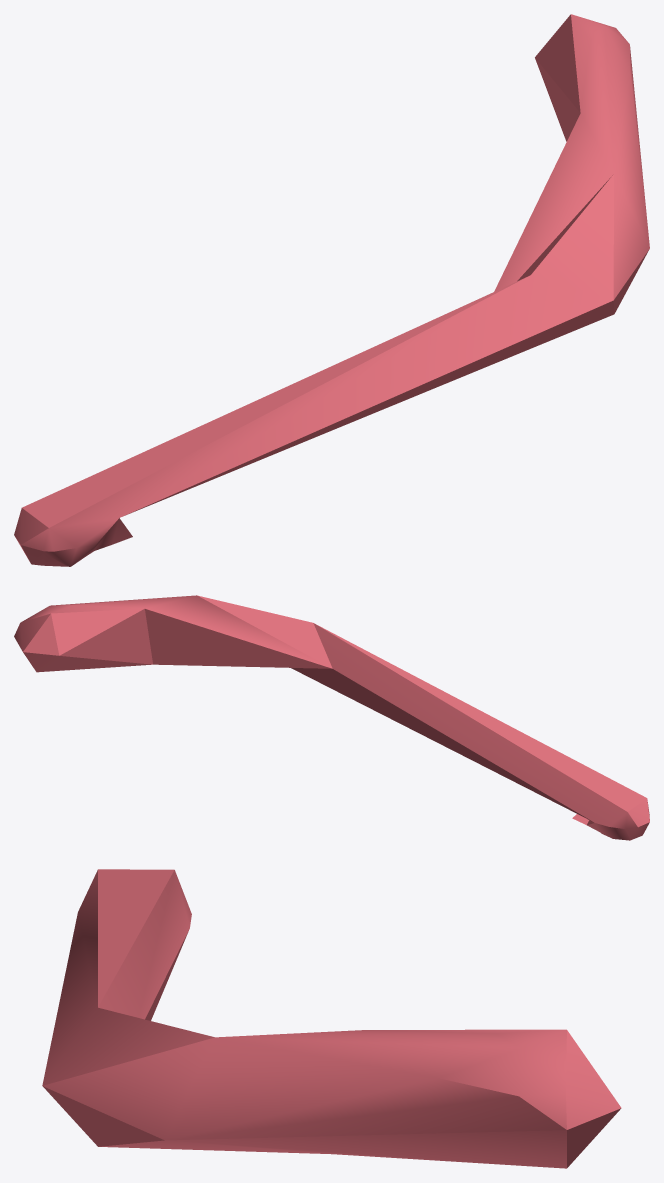
The model's file is fma14817_fj3553.glb.
The picture shows the model from 3 angles, top to bottom: view 1: azimuth 30°, elevation 25°; view 2: azimuth 150°, elevation 25°; view 3: azimuth 270°, elevation 25°; orthographic projection. The views are drawn at different scales.
Parts seen in each view (by area): view 1: FMA14817_FJ3553; view 2: FMA14817_FJ3553; view 3: FMA14817_FJ3553.
Part boxes in pixels (left/top/right/bottom): FMA14817_FJ3553: left=14, top=14, right=649, bottom=566; FMA14817_FJ3553: left=14, top=595, right=649, bottom=840; FMA14817_FJ3553: left=42, top=869, right=621, bottom=1168.
Size of the model in its own units: 0.0109 by 0.00364 by 0.00519.
